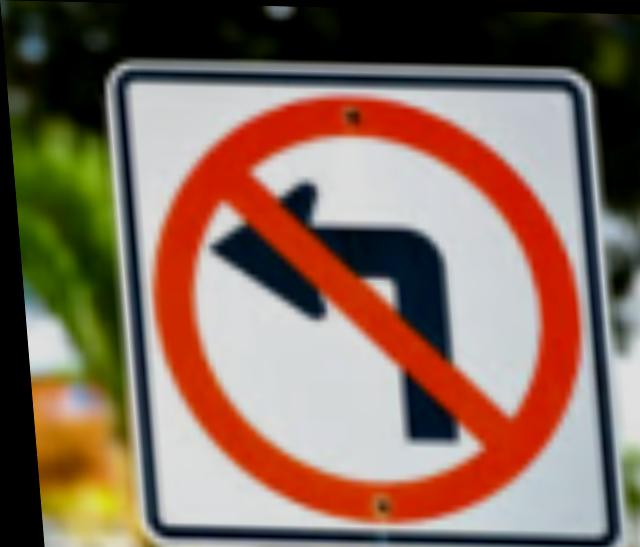not_turn_left: (133, 94, 595, 544)
